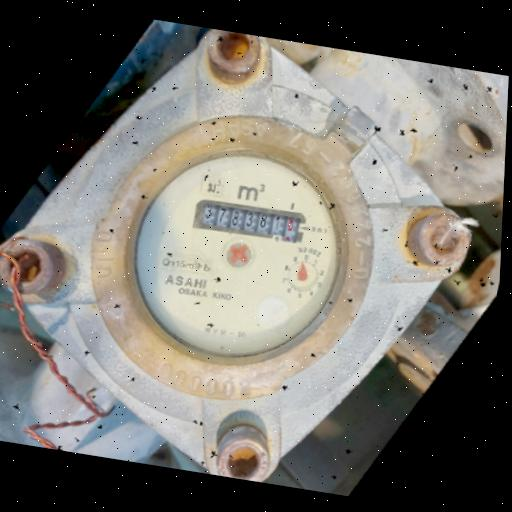1: (271, 213, 285, 234)
3: (201, 203, 217, 225), (243, 209, 257, 230)
7: (215, 206, 229, 227)
8: (283, 216, 297, 242), (257, 211, 271, 232), (230, 208, 243, 229)
border_water_meter_number: (190, 196, 309, 245)
